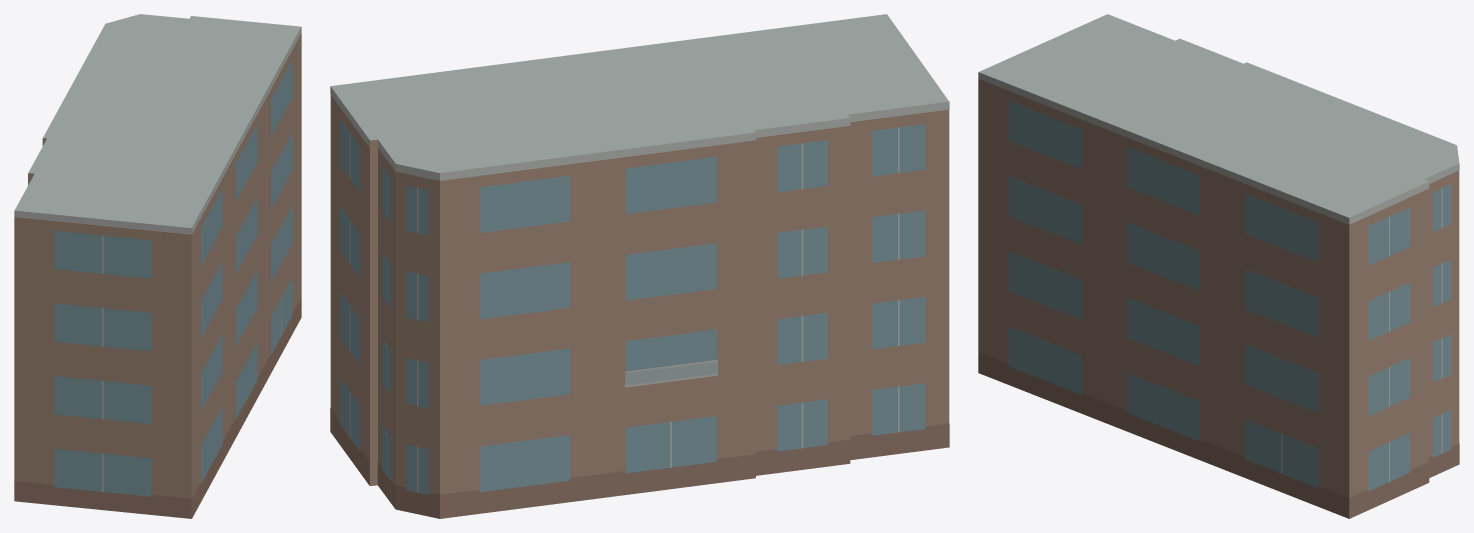
Rendered from survey-upis-32758140.glb.
3 renders of one model, left to right at view 1: azimuth 30°, elevation 25°; view 2: azimuth 150°, elevation 25°; view 3: azimuth 270°, elevation 25°, orthographic. The views are drawn at different scales.
Parts seen in each view (by area): view 1: survey-upis-32758140.tmp; view 2: survey-upis-32758140.tmp; view 3: survey-upis-32758140.tmp.
Part boxes in pixels (x1=…): survey-upis-32758140.tmp: x1=14, y1=14, x2=301, y2=518; survey-upis-32758140.tmp: x1=330, y1=14, x2=949, y2=518; survey-upis-32758140.tmp: x1=978, y1=14, x2=1459, y2=518.
Bounding box in the file's own units: 15.71 × 10.8 × 15.66.
